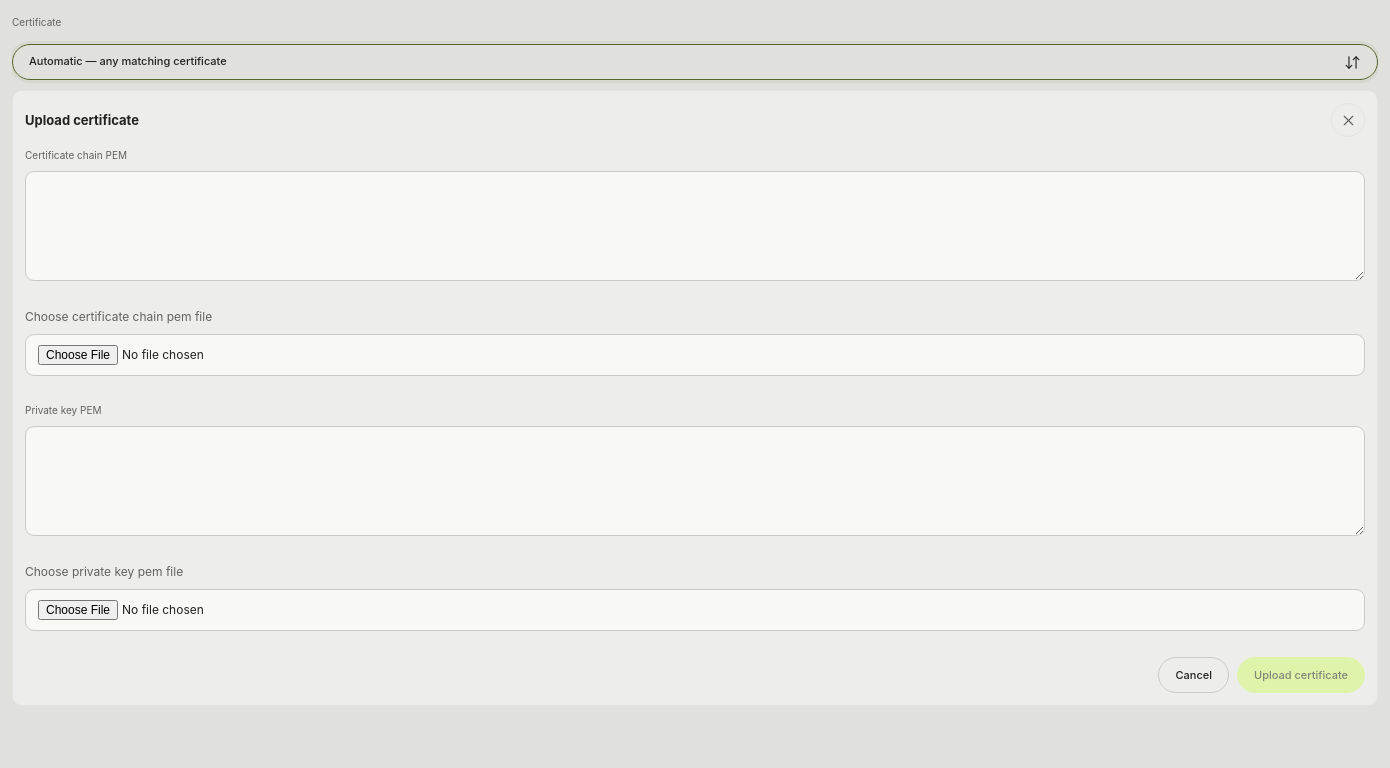
route certificate dropdown › uploads a PEM certificate inline, selects it, and handles errors
This screenshot has width=1390, height=768.
Earlier steps of the test are not shown.
Expected: the button "Upload certificate" is disabled, left=1237, top=657, right=1365, bottom=693
Type "-----BEGIN CERTIFICATE-----" into the text box labelled "Certificate chain PEM".
click(695, 226); type("-----BEGIN CERTIFICATE-----")  # box left=25, top=171, right=1365, bottom=281
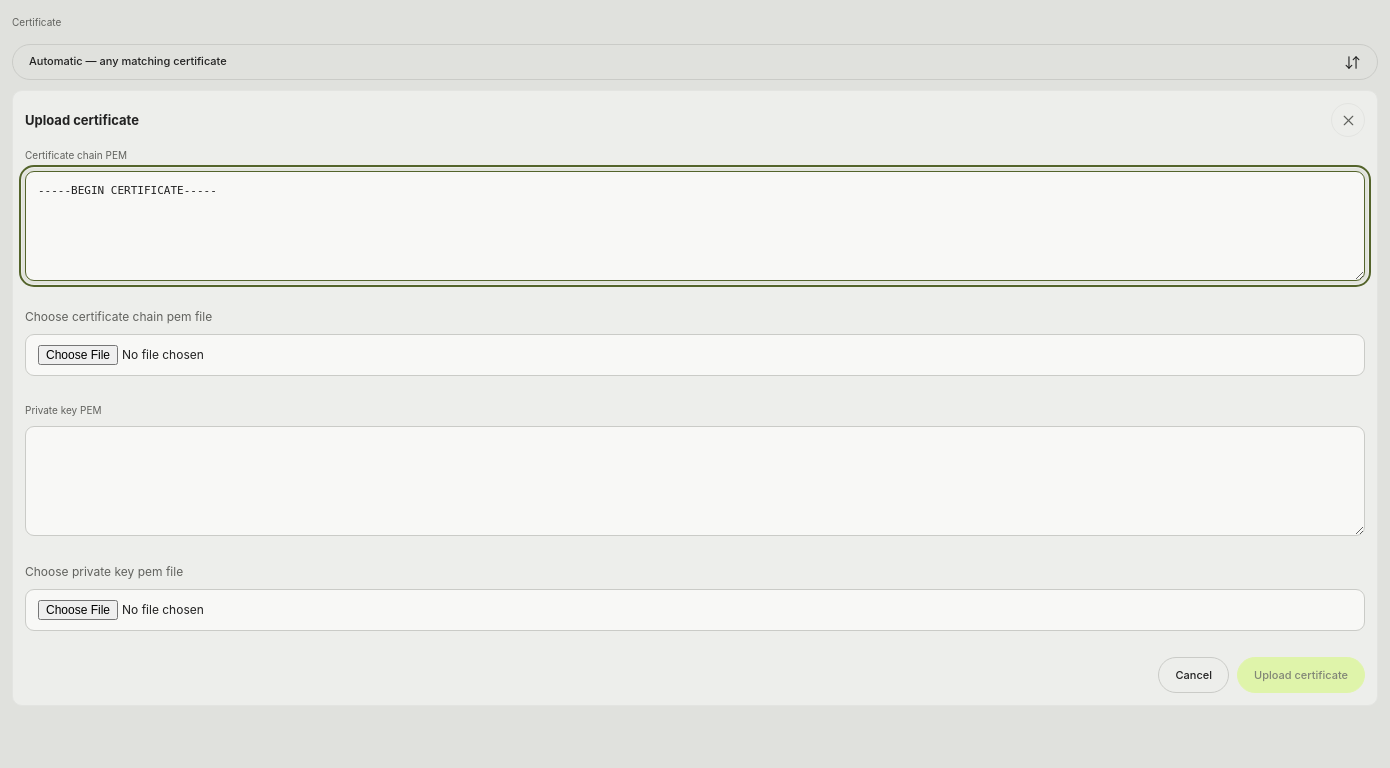
Type "-----BEGIN PRIVATE KEY-----" into the text box labelled "Private key PEM".
click(695, 481); type("-----BEGIN PRIVATE KEY-----")  # box left=25, top=426, right=1365, bottom=536
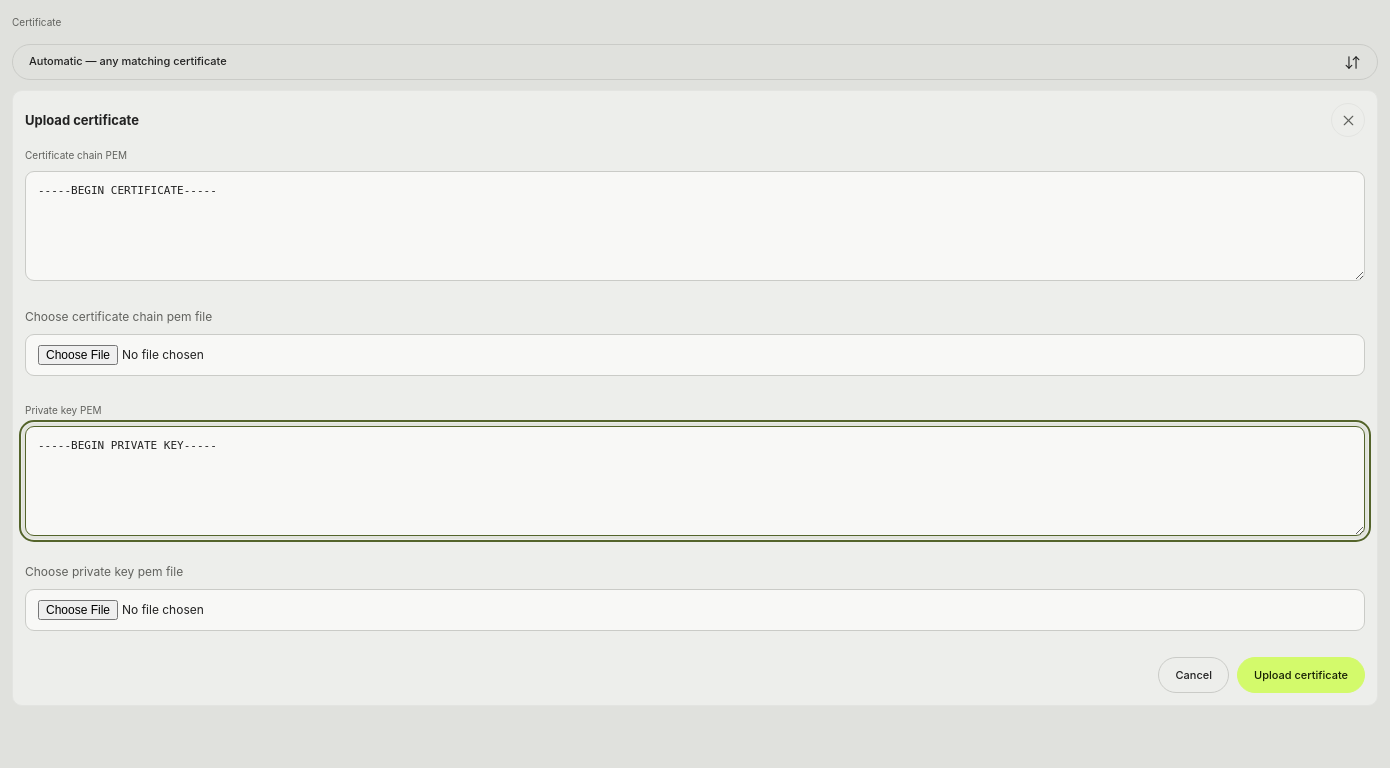
Now the button "Upload certificate" is enabled
Click the button "Upload certificate".
click(1301, 675)  # box left=1237, top=657, right=1365, bottom=693
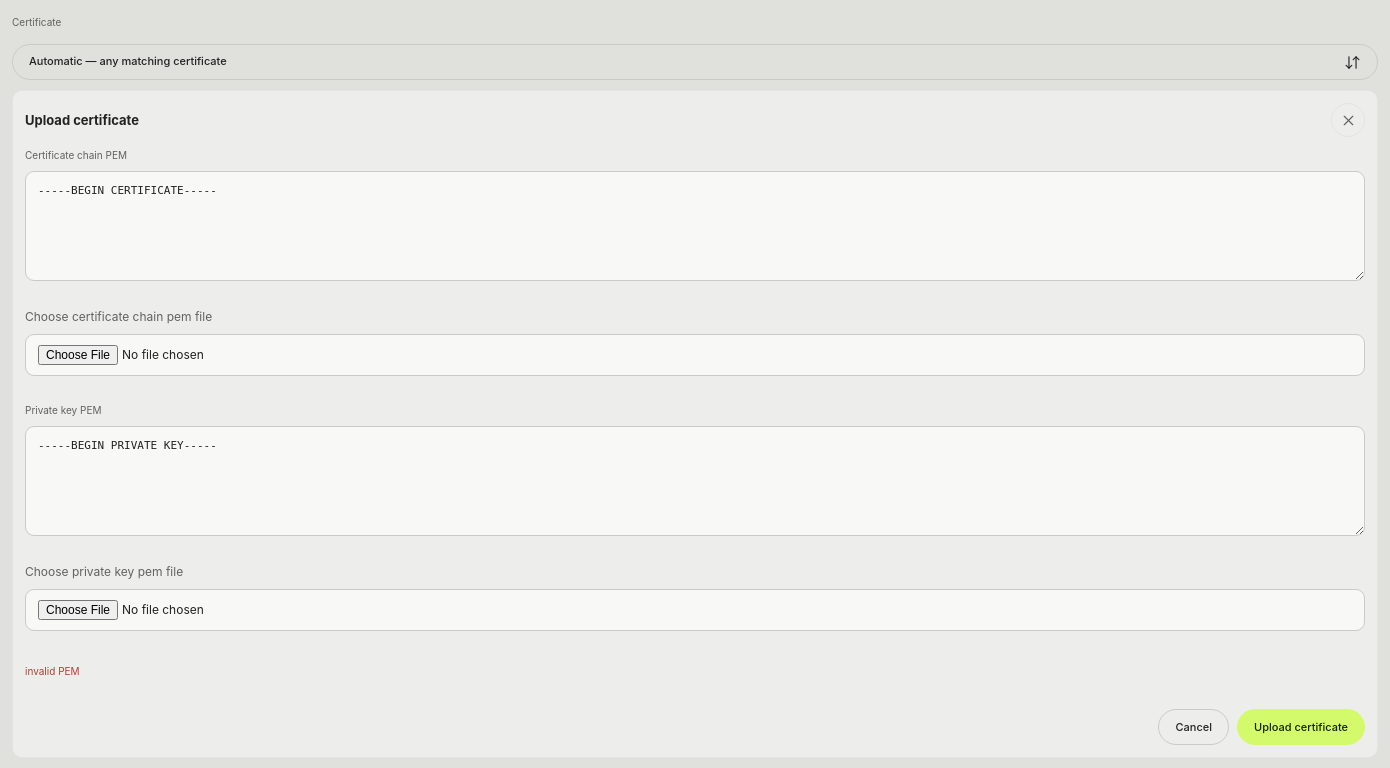
Now the message reads "invalid PEM", box left=25, top=665, right=80, bottom=677
Click the button "Upload certificate".
click(1301, 727)  # box left=1237, top=709, right=1365, bottom=745
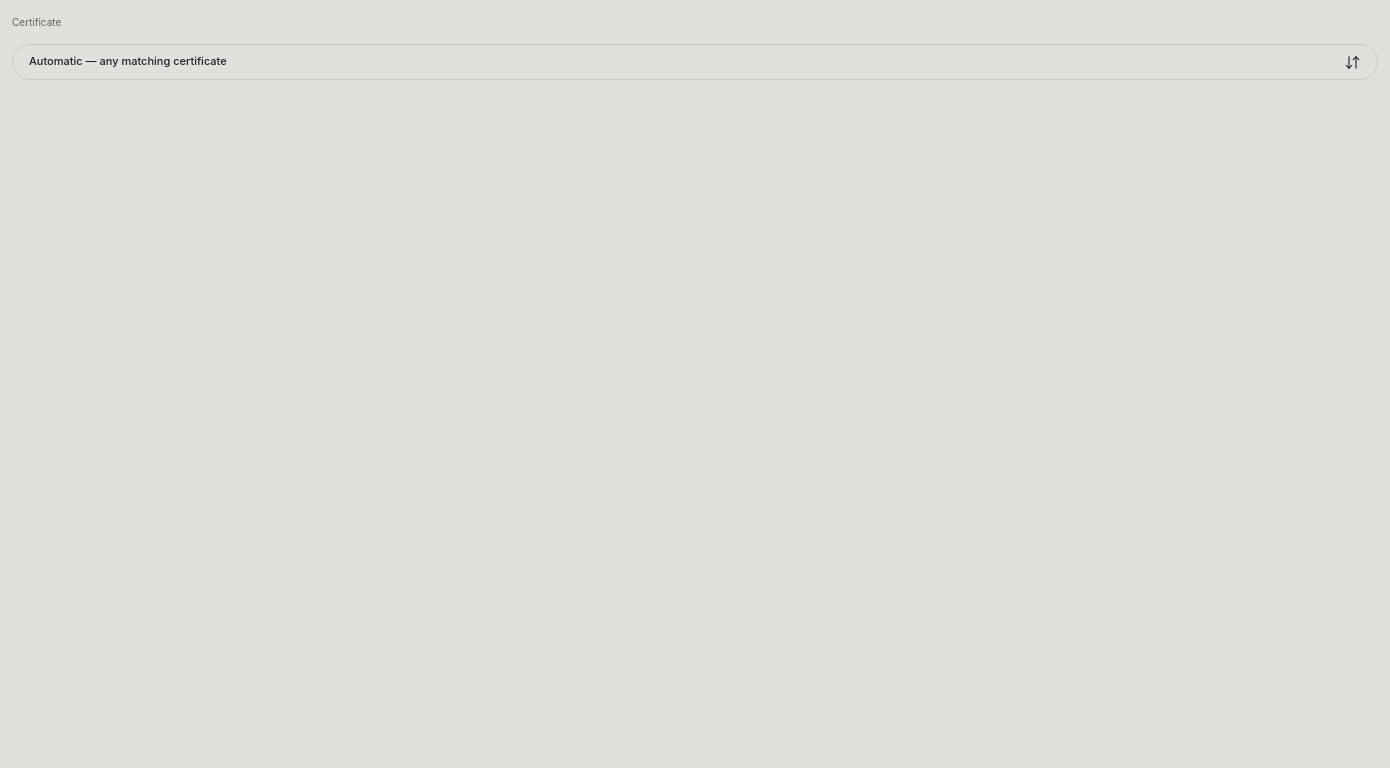
Now the text "Upload certificate" is gone
